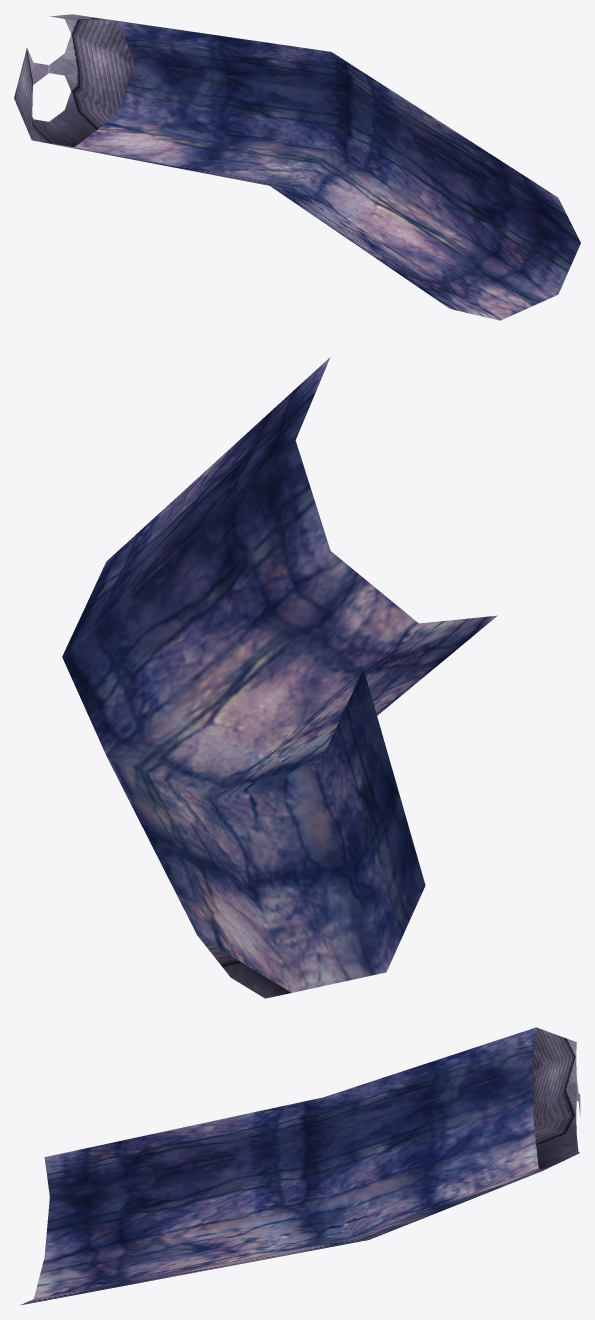
The picture shows the model from 3 angles, top to bottom: view 1: azimuth 30°, elevation 25°; view 2: azimuth 150°, elevation 25°; view 3: azimuth 270°, elevation 25°; orthographic projection. The views are drawn at different scales.
Visible parts, largest first — view 1: 17; view 2: 17; view 3: 17.
Part boxes in pixels (x1=…): 17: x1=14, y1=14, x2=580, y2=320; 17: x1=62, y1=357, x2=497, y2=998; 17: x1=20, y1=1027, x2=580, y2=1305.
Bounding box in the file's own units: 9041 × 4688 × 13614.
Materials: 2 (2 with a texture image).
